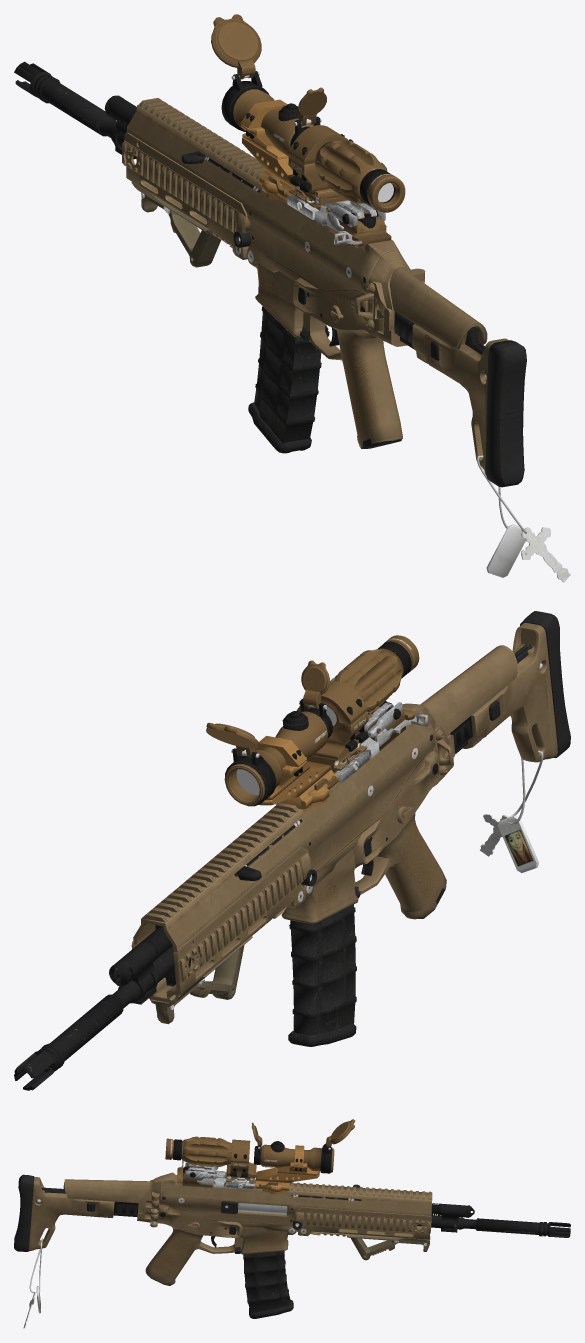
The model's file is gun-desert.glb.
3 renders of one model, top to bottom at view 1: azimuth 30°, elevation 25°; view 2: azimuth 150°, elevation 25°; view 3: azimuth 270°, elevation 25°, orthographic. The views are drawn at different scales.
Visible parts, largest first — view 1: Object_4, Object_2, Object_7; view 2: Object_4, Object_2, Object_7; view 3: Object_4, Object_2, Object_7.
Part boxes in pixels (x1=…): Object_4: x1=14, y1=61, x2=570, y2=582; Object_2: x1=211, y1=14, x2=405, y2=247; Object_7: x1=131, y1=182, x2=220, y2=267; Object_4: x1=14, y1=611, x2=570, y2=1090; Object_2: x1=206, y1=635, x2=428, y2=812; Object_7: x1=149, y1=936, x2=252, y2=1024; Object_4: x1=14, y1=1172, x2=570, y2=1328; Object_2: x1=165, y1=1119, x2=355, y2=1194; Object_7: x1=347, y1=1235, x2=430, y2=1260.
Bounding box in the file's own units: 0.1074 × 0.3965 × 1.
3 materials, 3 textured.
